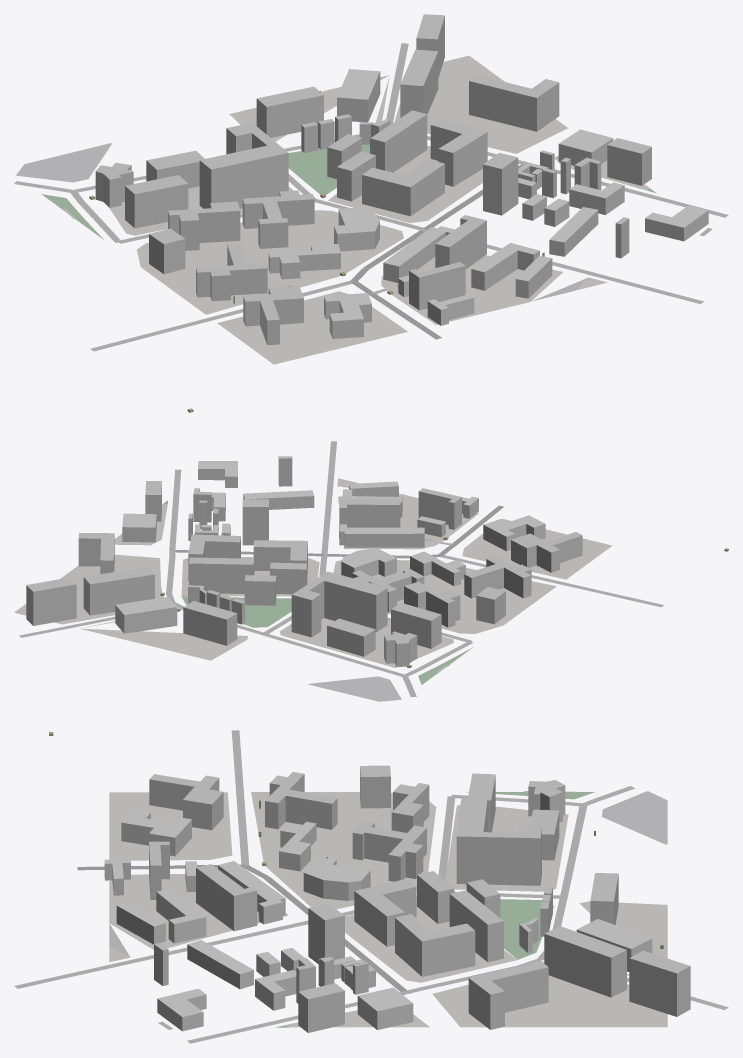
3 views of the same model, one above another, from view 1: azimuth 30°, elevation 25°; view 2: azimuth 150°, elevation 25°; view 3: azimuth 270°, elevation 25° (orthographic). The views are drawn at different scales.
Size of the model in its own units: 666 by 48.67 by 640.
